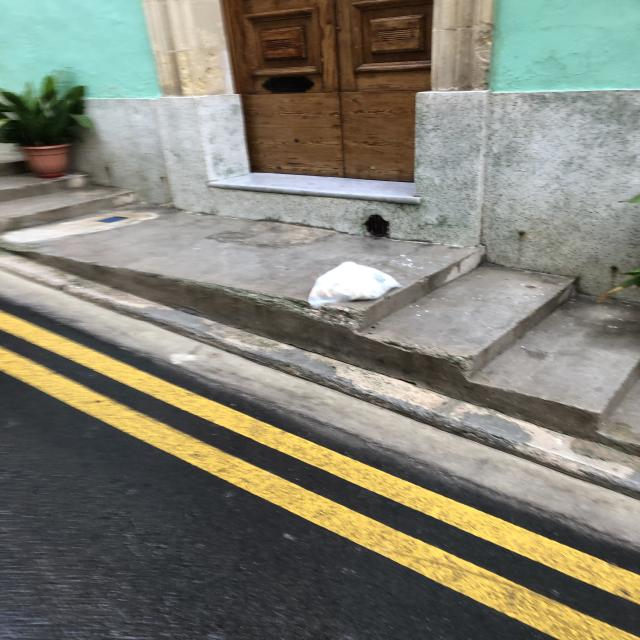Organic Waste -White Bag-: (308, 260, 403, 313)
